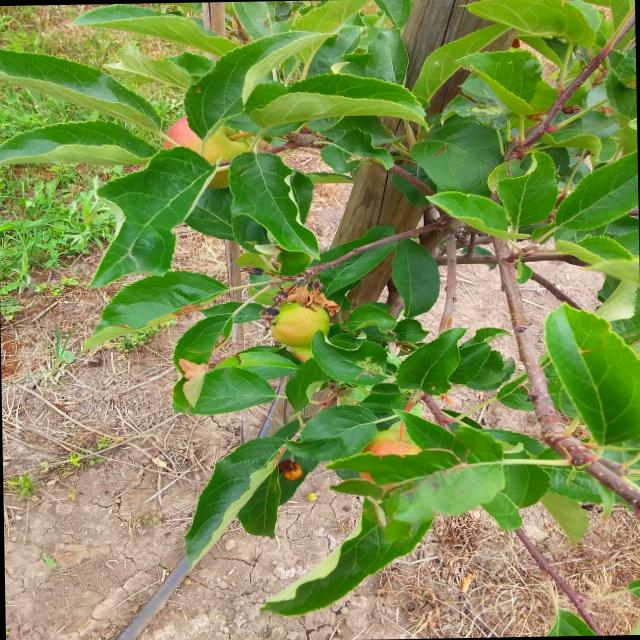-FireBlight-: (264, 266, 338, 320)
